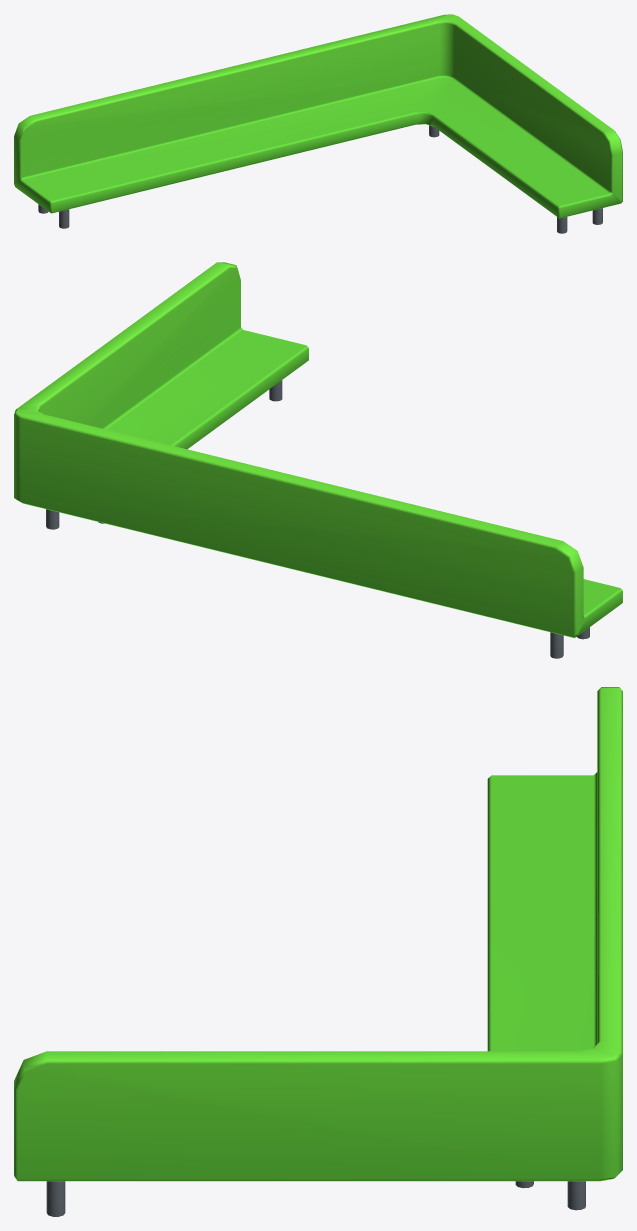
The model's file is Bench_Corner.fbx.
3 views of the same model, one above another, from view 1: azimuth 30°, elevation 25°; view 2: azimuth 150°, elevation 25°; view 3: azimuth 270°, elevation 25° (orthographic). The views are drawn at different scales.
Visible parts, largest first — view 1: Bench_Corner.001; view 2: Bench_Corner.001; view 3: Bench_Corner.001.
Boxes of the visible parts, x1=… form: Bench_Corner.001: x1=14, y1=14, x2=622, y2=233; Bench_Corner.001: x1=14, y1=262, x2=622, y2=658; Bench_Corner.001: x1=14, y1=687, x2=622, y2=1216.
Size of the model in its own units: 600 by 120 by 400.
Materials: 1 (1 with a texture image).
